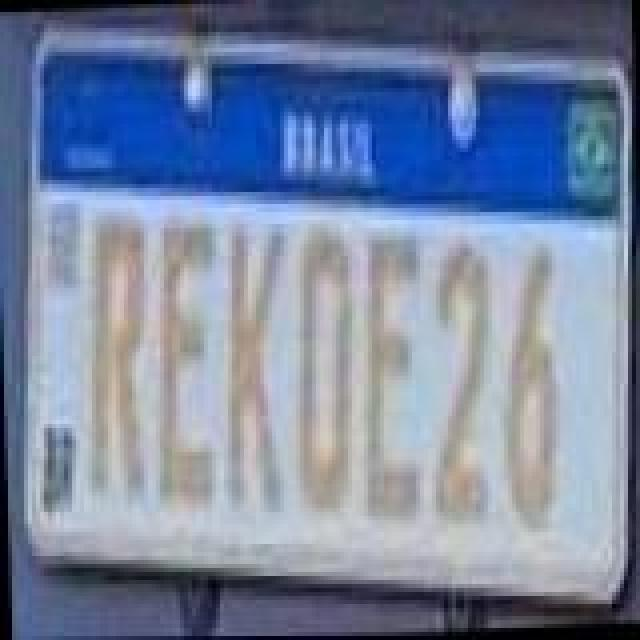2: (420, 230, 496, 534)
6: (488, 234, 564, 538)
D: (282, 220, 362, 524)
E: (352, 212, 436, 528), (146, 212, 226, 512)
K: (212, 210, 296, 526)
R: (74, 198, 150, 502)
